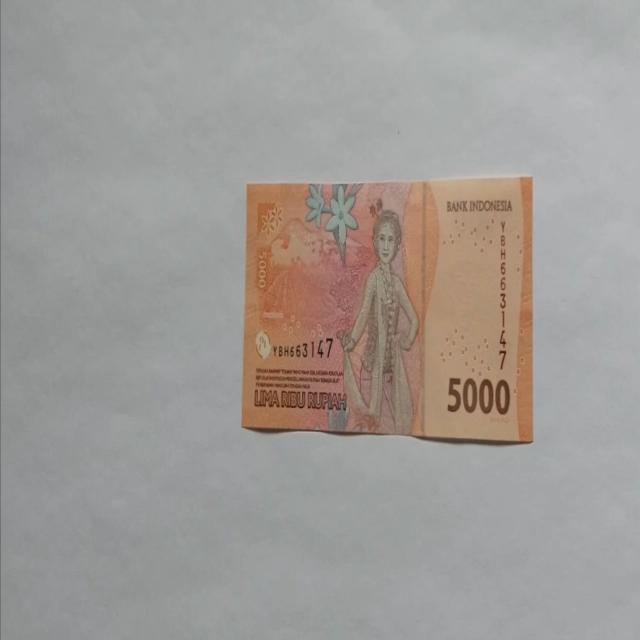lima ribu rupiah: (241, 175, 534, 443), (336, 209, 420, 434)
